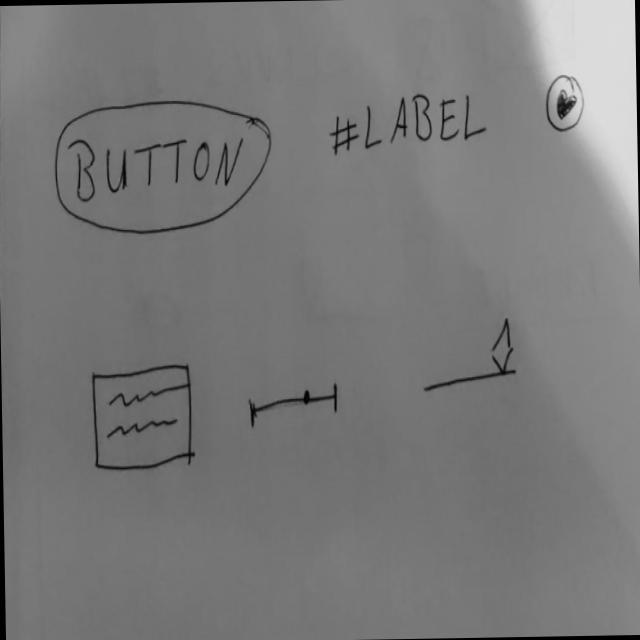button: (52, 95, 276, 239)
icon-button: (544, 71, 587, 136)
label: (327, 89, 491, 162)
number-input: (419, 313, 521, 398)
slider: (247, 379, 342, 433)
textarea: (90, 363, 195, 476)
